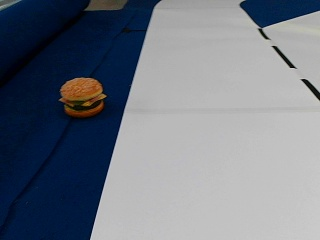burger: (58, 76, 105, 116)
